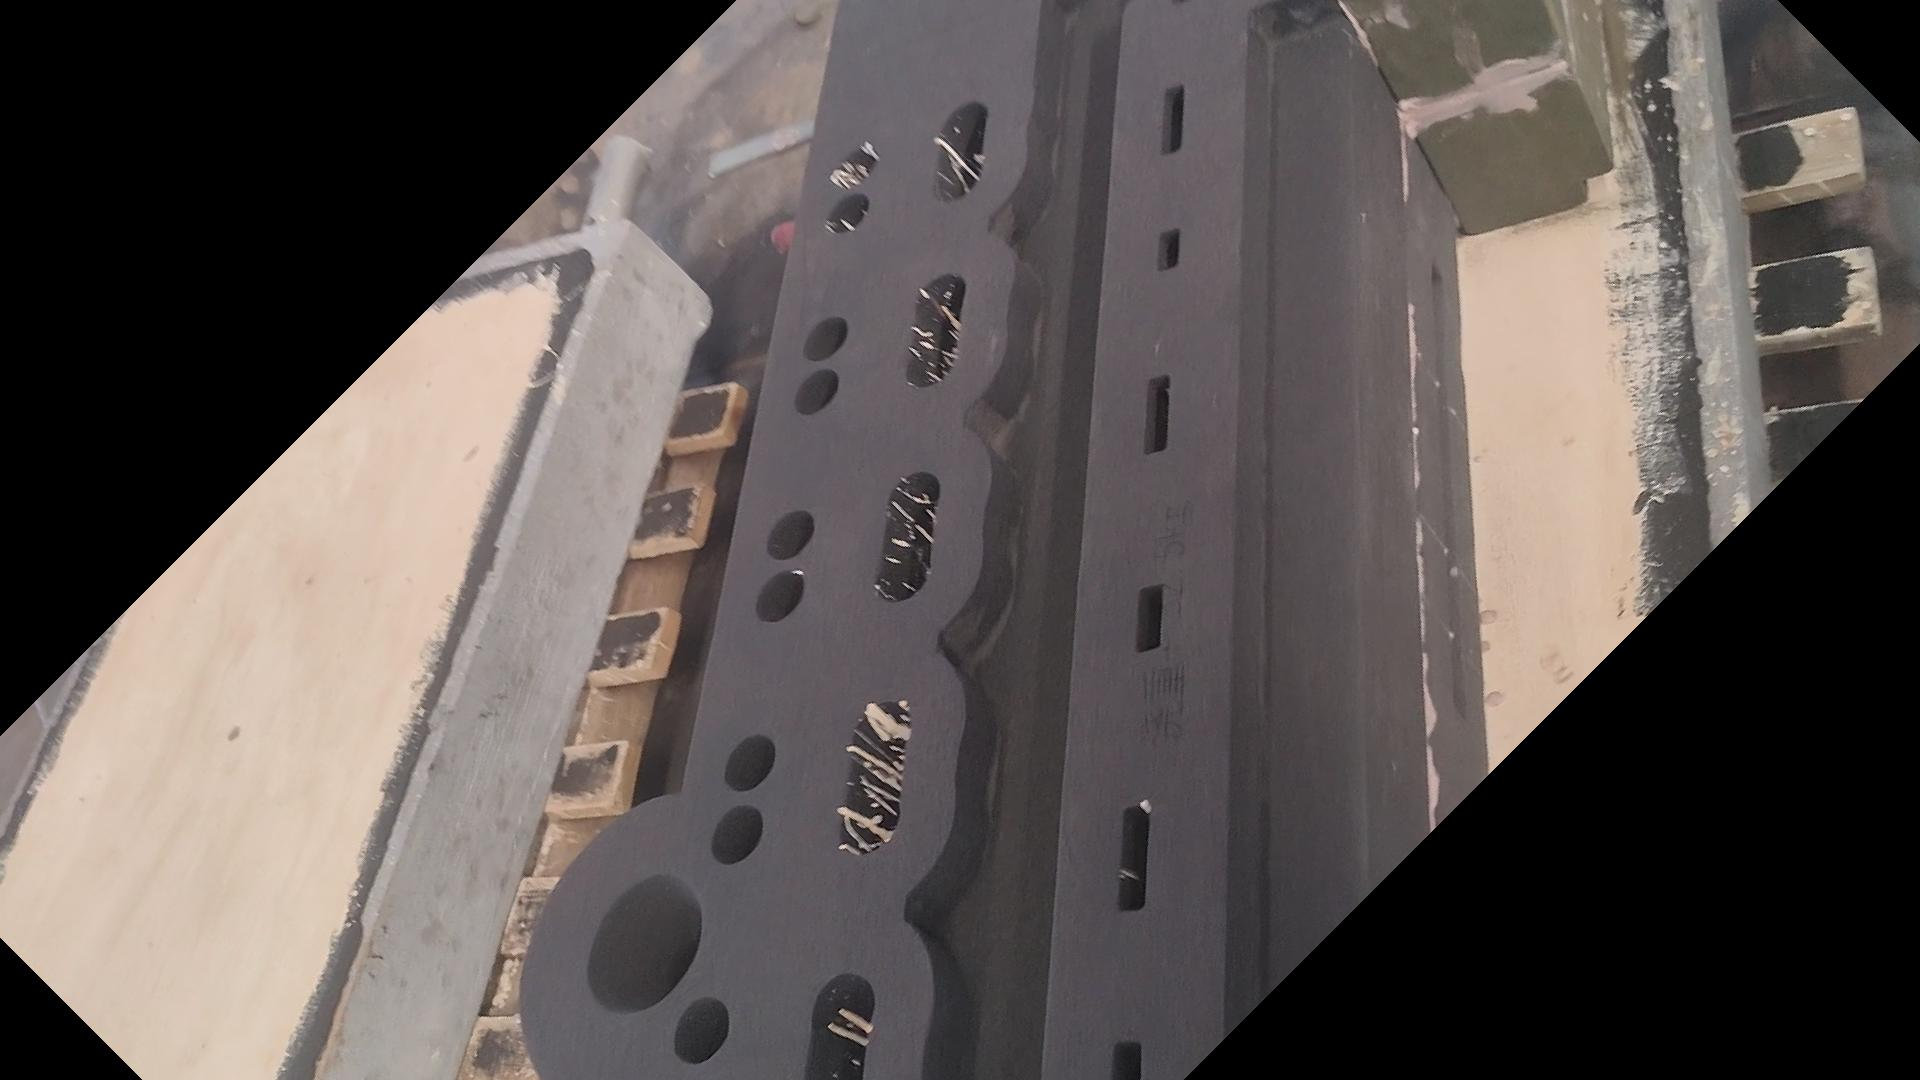pouring hole: (587, 872, 702, 1015)
